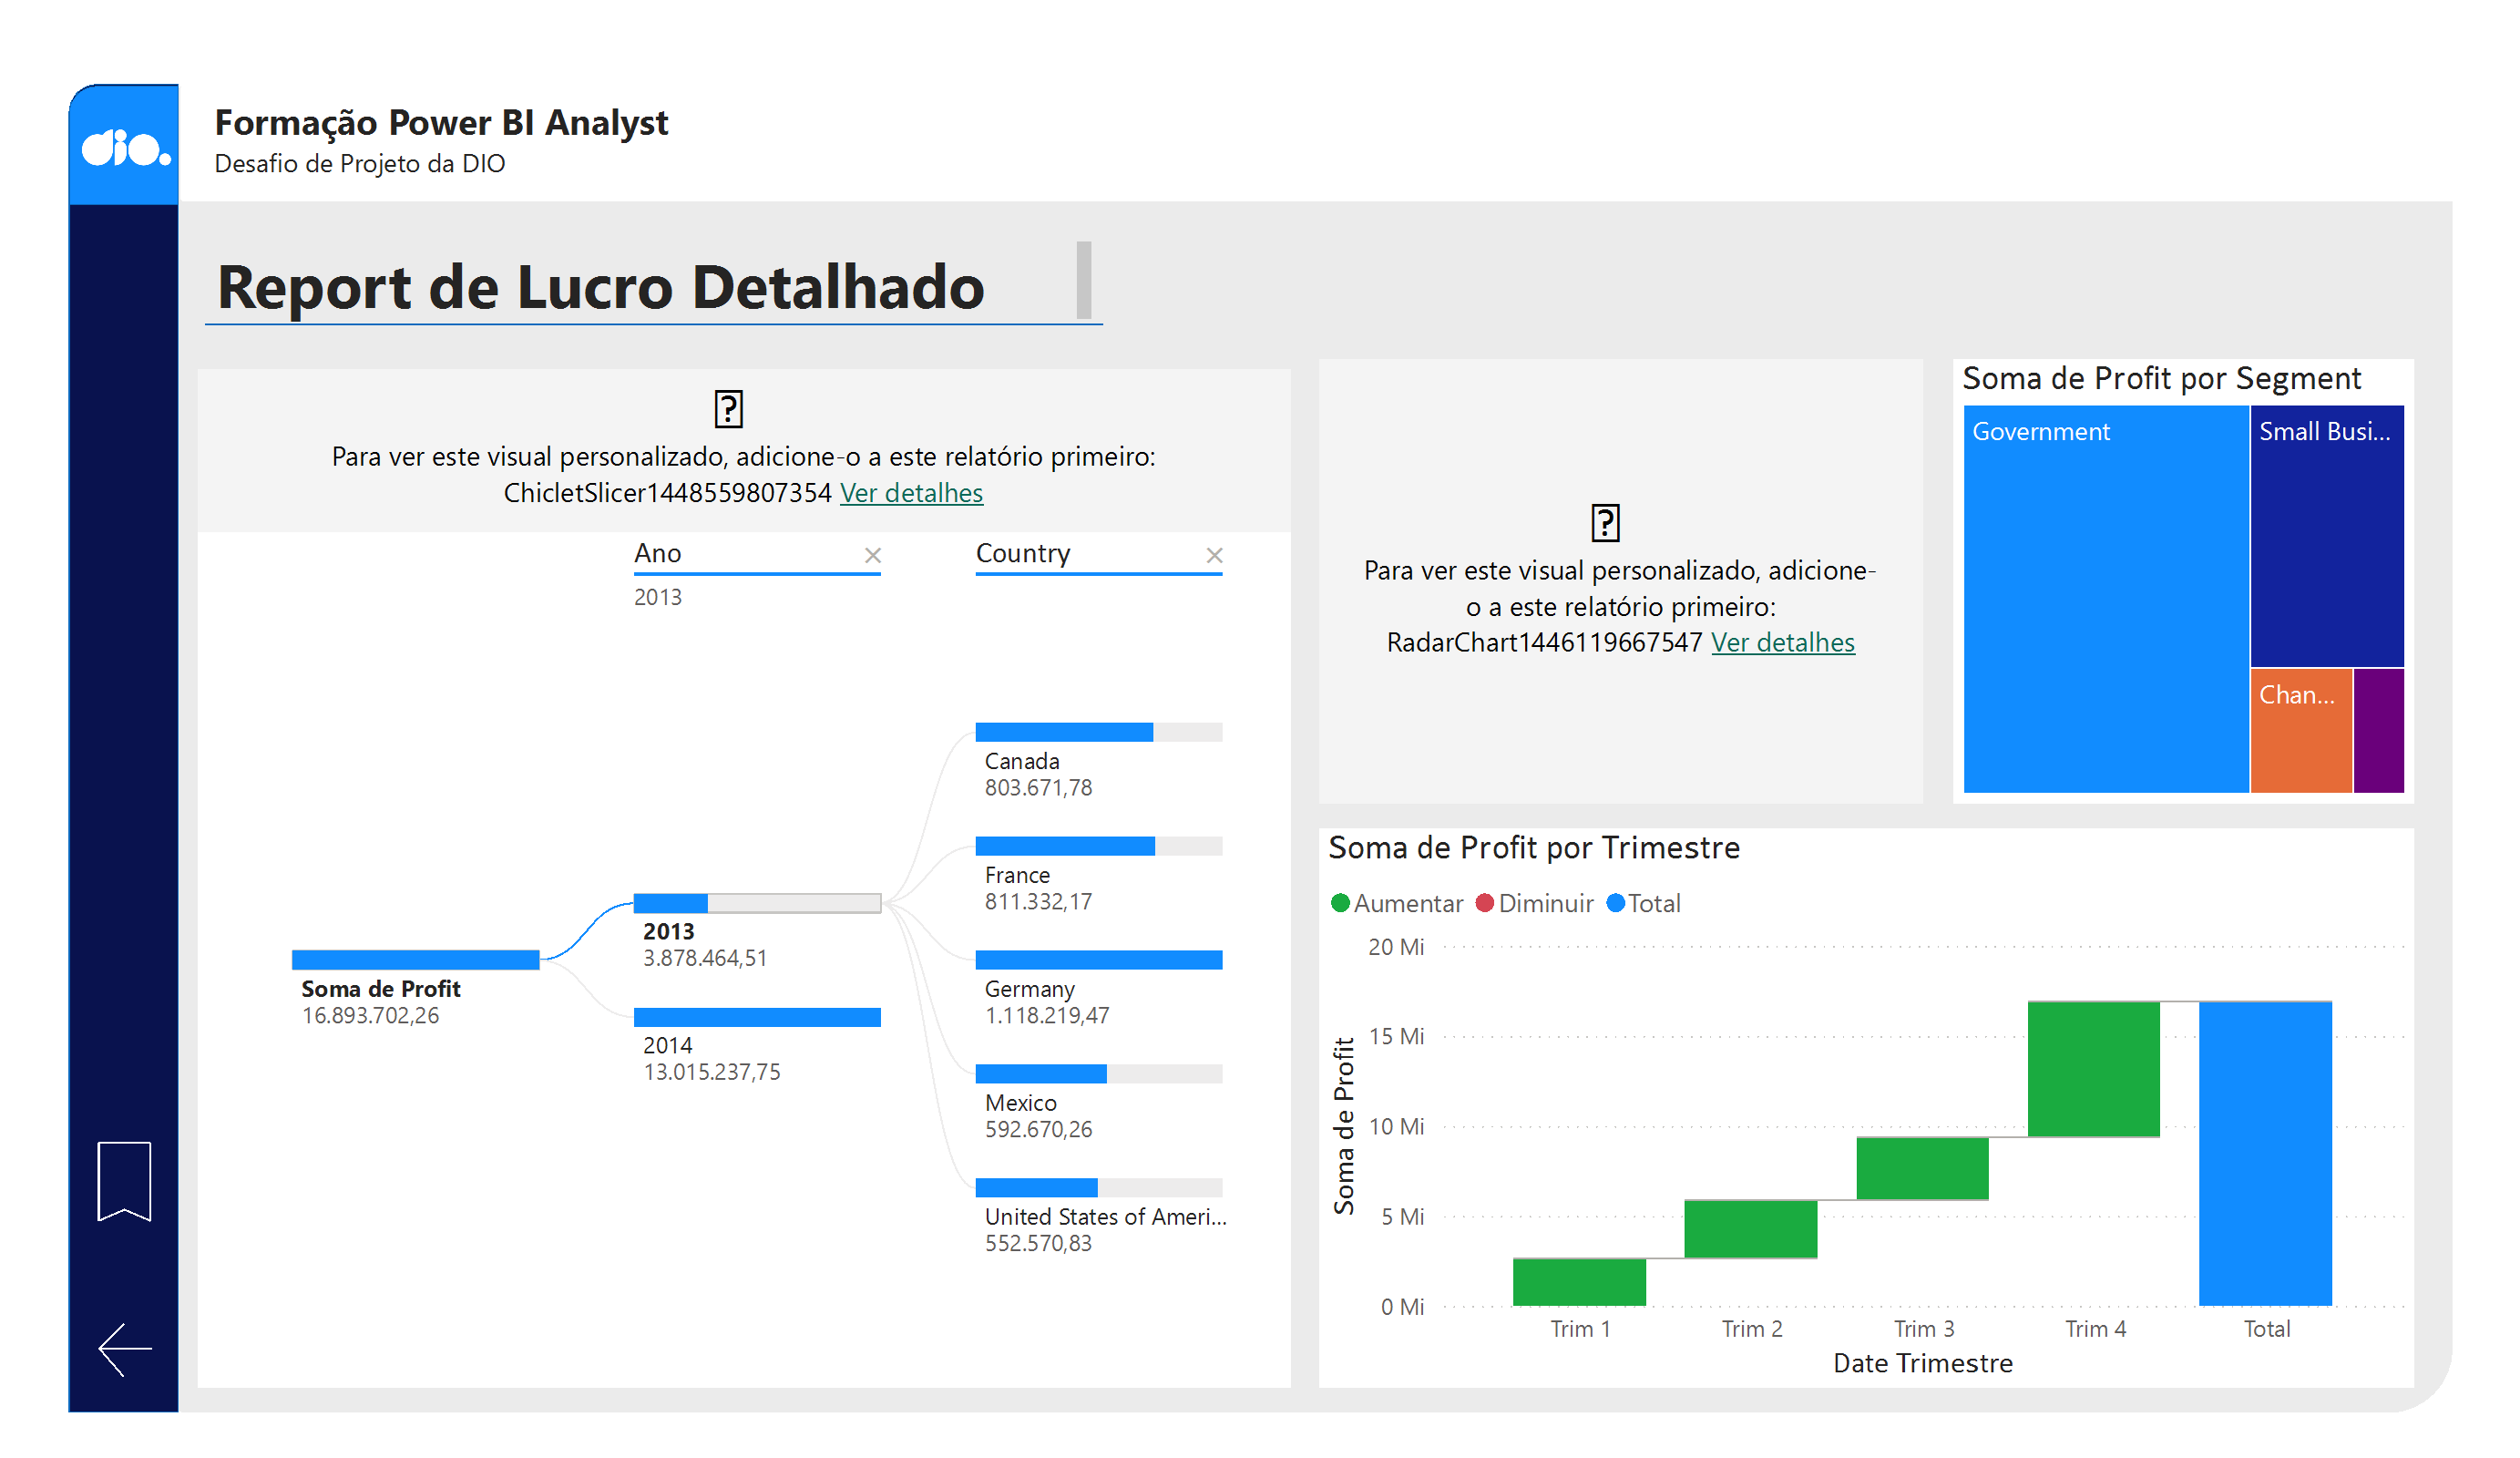

What the dashboard file says about the page in this screenshot:
{"tool":"powerbi","page":{"name":"Página 2","canvas":[1280,720],"ordinal":1},"visuals":[{"type":"shape","box":[42.6,20.7,1225.3,699.3],"z":0},{"type":"shape","box":[83.9,127.8,473,37.1],"z":0,"group":"g1"},{"type":"textbox","box":[85.3,97.6,470.2,52.2],"z":1000,"group":"g1"},{"type":"shape","box":[12.4,20.2,57.7,699.8],"z":1000},{"type":"shape","box":[12.4,20.6,57.7,63.2],"z":2000},{"type":"image","box":[13.7,33,57.7,39.9],"z":3000},{"type":"shape","title":"Fundo do Título","box":[71.5,20.6,1198.9,61.9],"z":4000},{"type":"textbox","title":"Título do report","box":[83.9,22,378.1,63.2],"z":5000},{"type":"shape","box":[79.7,233.7,576.1,473],"z":6000},{"type":"decompositionTreeVisual","fields":{"Analyze":["Sum(financials.Profit)"],"ExplainBy":["financials.Date.Variation.Hierarquia de datas.Ano","financials.Country"]},"box":[99.8,242.2,536.3,456.5],"z":7000},{"type":"waterfallChart","fields":{"Category":["financials.Date.Variation.Hierarquia de datas.Trimestre"],"Y":["Sum(financials.Profit)"]},"box":[670.9,412.5,577.4,294.2],"z":8000},{"type":"ChicletSlicer1448559807354","fields":{"Category":["financials.Date.Variation.Hierarquia de datas.Ano"]},"box":[79.7,170.5,576.1,48.1],"z":9000},{"type":"RadarChart1446119667547","fields":{"Category":["financials.Product"],"Y":["Sum(financials.Profit)"]},"box":[670.9,165,317.6,233.7],"z":10000},{"type":"treemap","fields":{"Values":["Sum(financials.Profit)"],"Group":["financials.Segment"]},"box":[1005,165,243.4,233.7],"z":11000},{"type":"actionButton","box":[22,666.8,48.1,39.9],"z":12000},{"type":"group","id":"g1","title":"Sales report","box":[83.9,97.6,473,67.4],"z":13000},{"type":"actionButton","box":[12.8,545.8,57,105.5],"z":14000}]}

Visuals, with their boxes on the page's 1280x720 design canvas (x1, y1, x2, y2). These are canvas units, not pixel positions in the 2520x1458 screenshot, which may show the page scaled, cropped or inside an application window:
shape: box=[43, 21, 1268, 720]
shape: box=[84, 128, 557, 165]
textbox: box=[85, 98, 556, 150]
shape: box=[12, 20, 70, 720]
shape: box=[12, 21, 70, 84]
image: box=[14, 33, 71, 73]
"Fundo do Título" shape: box=[72, 21, 1270, 82]
"Título do report" textbox: box=[84, 22, 462, 85]
shape: box=[80, 234, 656, 707]
decompositionTreeVisual - Sum(financials.Profit) x financials.Date.Variation.Hierarquia de datas.Ano: box=[100, 242, 636, 699]
waterfallChart - financials.Date.Variation.Hierarquia de datas.Trimestre x Sum(financials.Profit): box=[671, 412, 1248, 707]
ChicletSlicer1448559807354 - financials.Date.Variation.Hierarquia de datas.Ano: box=[80, 170, 656, 219]
RadarChart1446119667547 - financials.Product x Sum(financials.Profit): box=[671, 165, 988, 399]
treemap - Sum(financials.Profit) x financials.Segment: box=[1005, 165, 1248, 399]
actionButton: box=[22, 667, 70, 707]
"Sales report" group: box=[84, 98, 557, 165]
actionButton: box=[13, 546, 70, 651]
